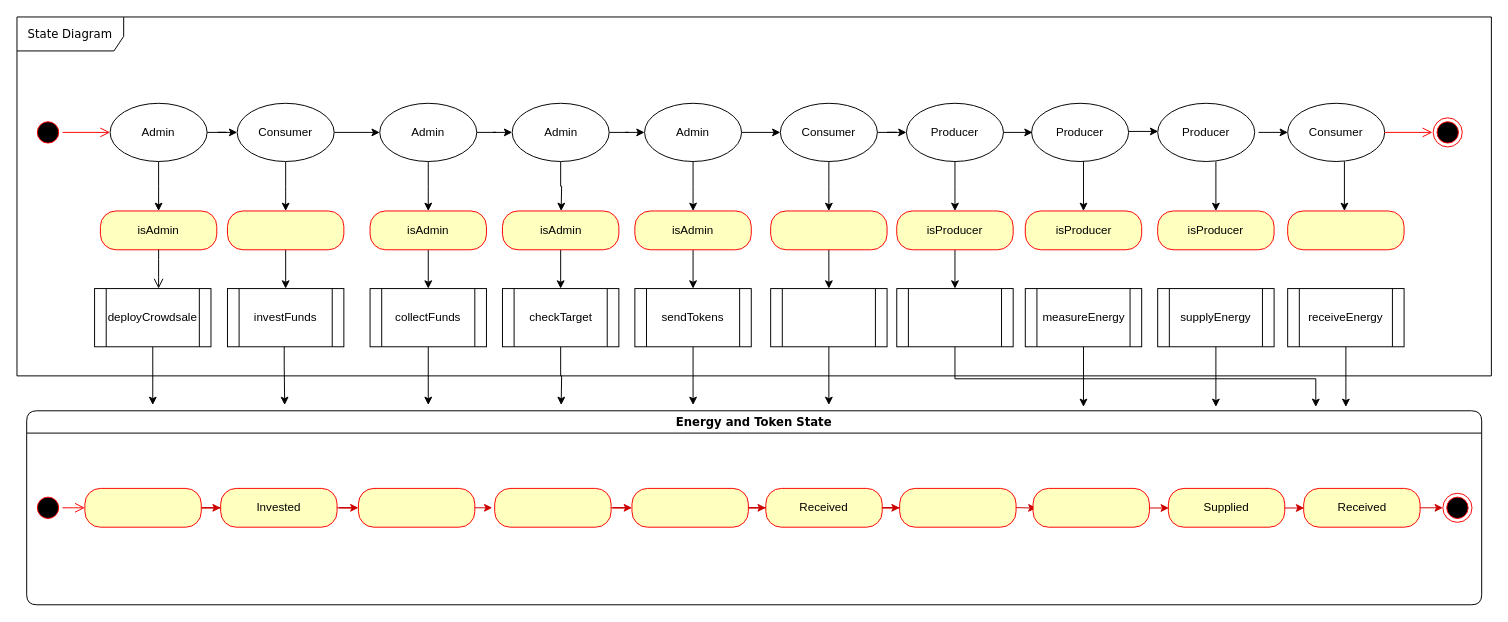
Image size: 1508x622. Some labels were removed from this diagram. The box of each missing label's shape, as (x1, y1, x2, y2) in pixels:
Checked: (494, 487, 611, 527)
Collected: (357, 487, 475, 527)
Deployed: (84, 487, 201, 527)
isConsumer: (1287, 210, 1404, 250)
isInvestor: (226, 210, 344, 250)
isReceiver: (770, 210, 887, 250)
Measured: (1032, 487, 1149, 527)
Produced: (899, 487, 1016, 527)
produceEnergy: (896, 288, 1013, 347)
receiveTokens: (770, 288, 887, 347)
Sent: (631, 487, 748, 527)
